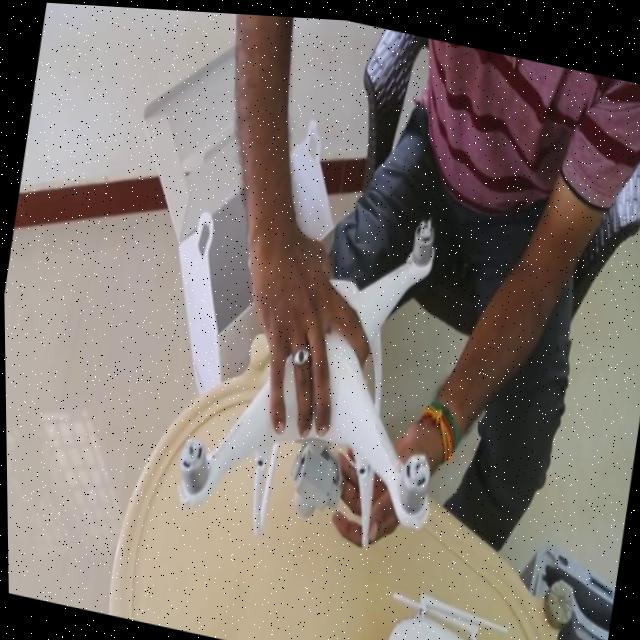drones: (130, 133, 485, 591)
